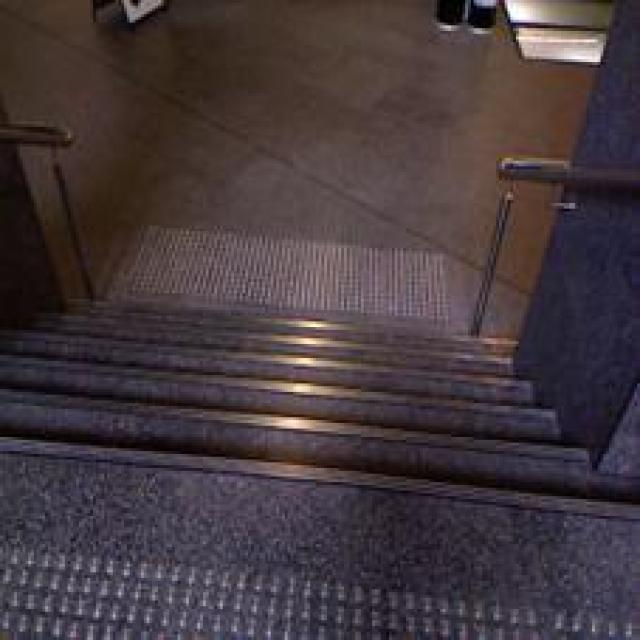downstair: (38, 345, 523, 596)
